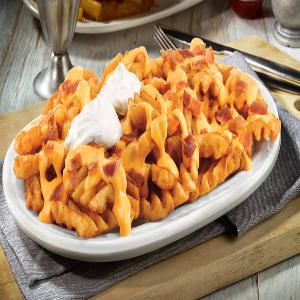fries: (7, 43, 274, 212)
